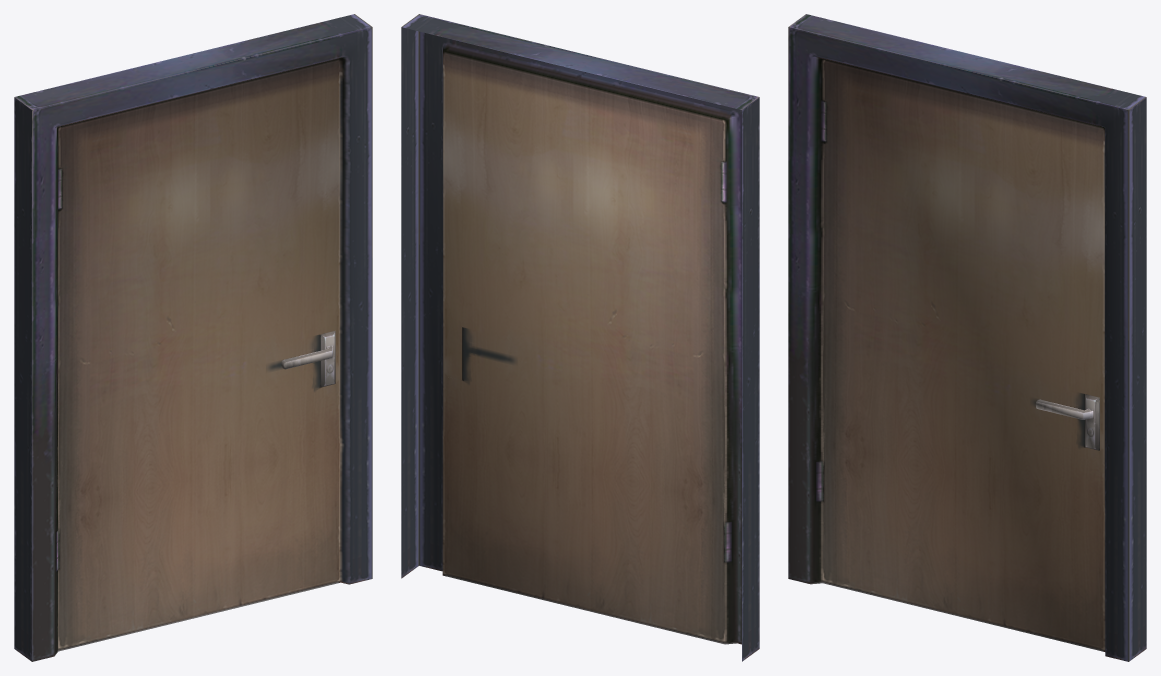
File: YYZL_men1_FBX.FBX
3 views of the same model, side by side, from view 1: azimuth 30°, elevation 25°; view 2: azimuth 150°, elevation 25°; view 3: azimuth 330°, elevation 25° (orthographic).
Parts seen in each view (by area): view 1: YYZL_men1_FBX; view 2: YYZL_men1_FBX; view 3: YYZL_men1_FBX.
Part boxes in pixels (left/top/right/bottom): YYZL_men1_FBX: left=14, top=14, right=372, bottom=661; YYZL_men1_FBX: left=401, top=14, right=759, bottom=661; YYZL_men1_FBX: left=788, top=14, right=1146, bottom=661.
Bounding box in the file's own units: 1.67 × 2.58 × 0.1729.
1 material, 1 textured.
